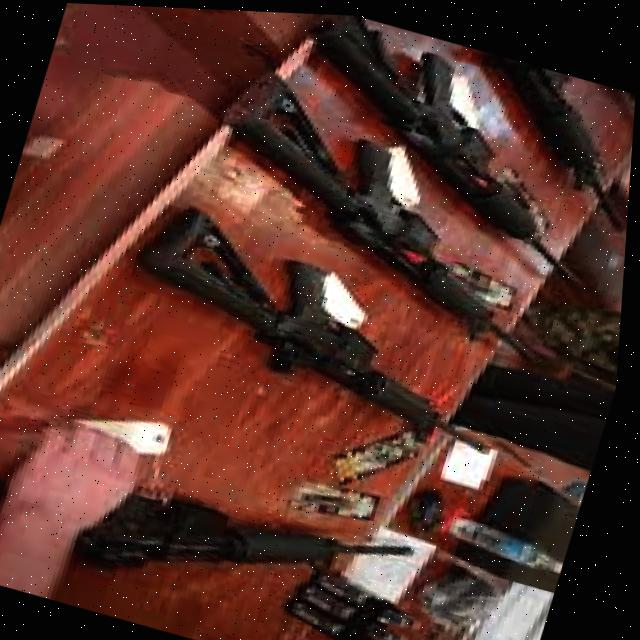firearm: (169, 57, 615, 368), (98, 189, 548, 460), (250, 9, 640, 287), (0, 416, 430, 640), (431, 42, 639, 232)
